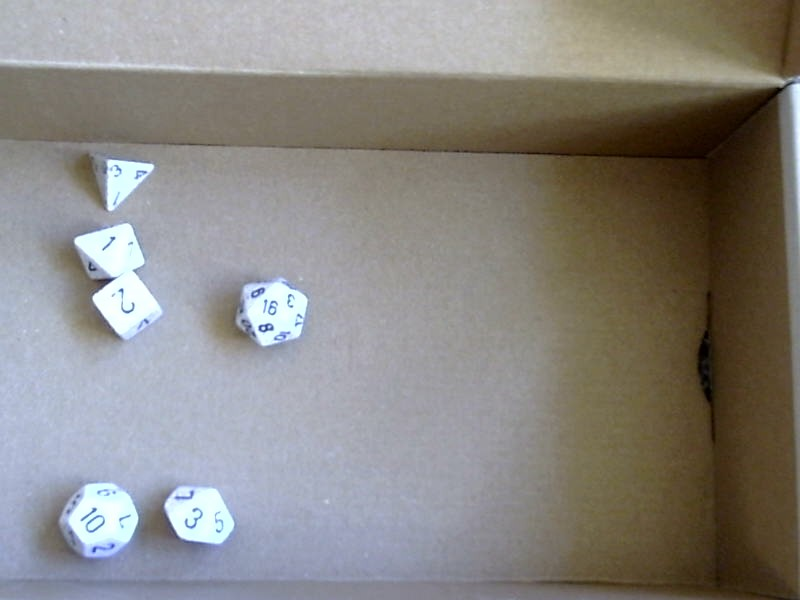d10 3: (160, 476, 237, 548)
d12 10: (53, 476, 139, 561)
d20 16: (233, 277, 309, 346)
d4 3: (79, 148, 156, 213)
d6 2: (89, 272, 165, 338)
d8 1: (67, 222, 148, 279)
